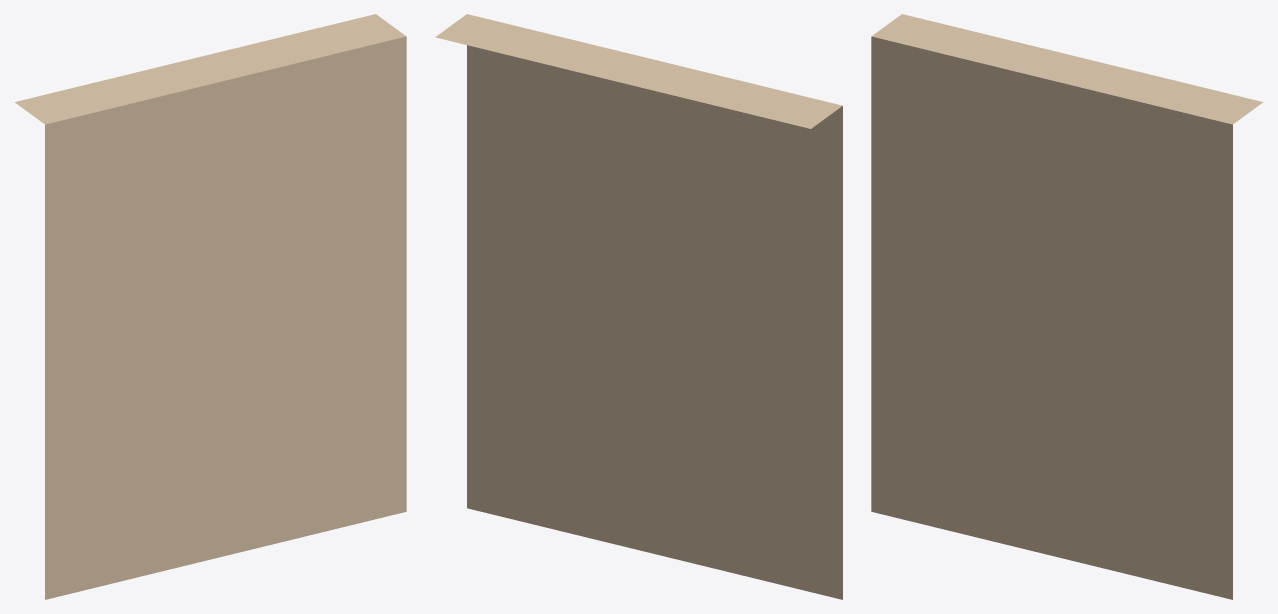
3 views of the same model, side by side, from view 1: azimuth 30°, elevation 25°; view 2: azimuth 150°, elevation 25°; view 3: azimuth 330°, elevation 25° (orthographic). The views are drawn at different scales.
Parts seen in each view (by area): view 1: Object12; view 2: Object12; view 3: Object12.
Part boxes in pixels (left/top/right/bottom): Object12: left=15, top=14, right=406, bottom=599; Object12: left=435, top=14, right=842, bottom=599; Object12: left=871, top=14, right=1262, bottom=599.
Bounding box in the file's own units: 292 × 368 × 42.99.
